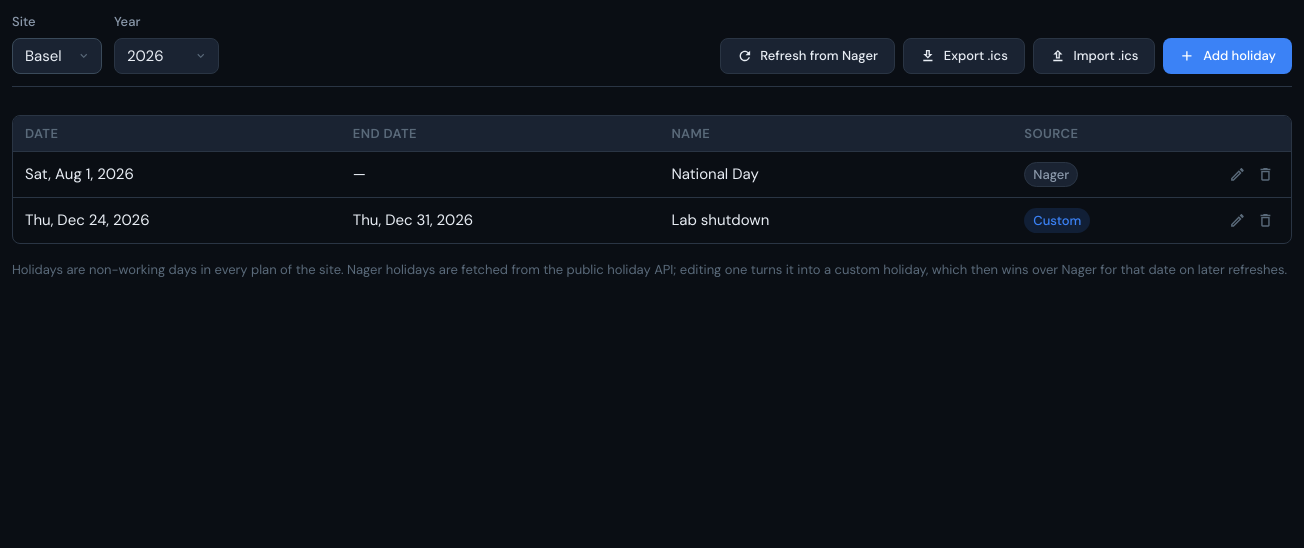
Test: BankHolidaysPanel add and edit › shows a save error and can be cancelled
This screenshot has width=1304, height=548.
Check: the text "National Day" is shown, box [659,152,1012,197]
What coordinates should you click on to do the following:
click the button named "Edit Lab shutdown"
I would click on:
 (1237, 220)
Its box is [1223,206,1251,234].
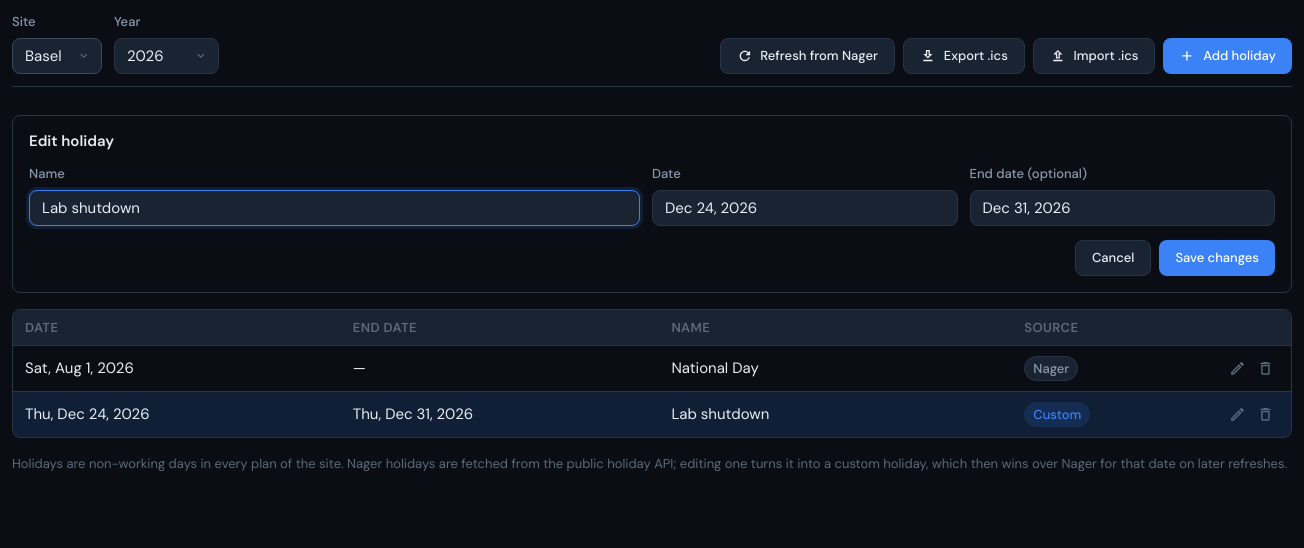
What coordinates should you click on to do the following:
click the button "Save changes"
I would click on:
 (1217, 258)
Its box is [1159,240,1275,276].
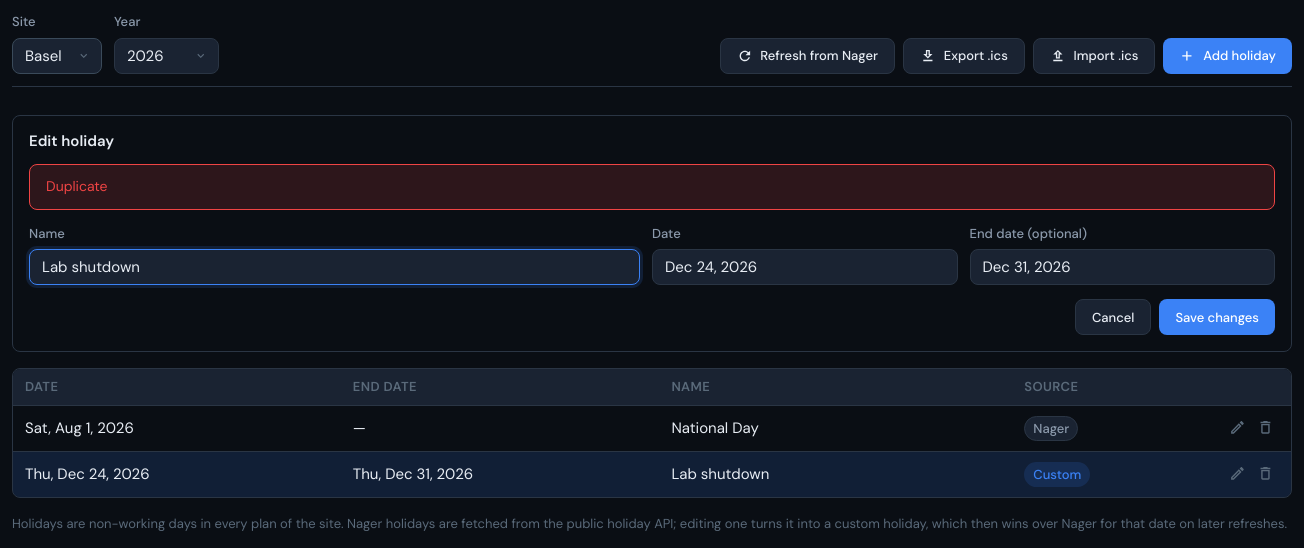
Check: the text "Duplicate" is shown, box [46,177,108,195]
What coordinates should you click on to do the following:
click the button "Cancel"
I would click on:
 (1113, 317)
Its box is [1075,299,1151,335].
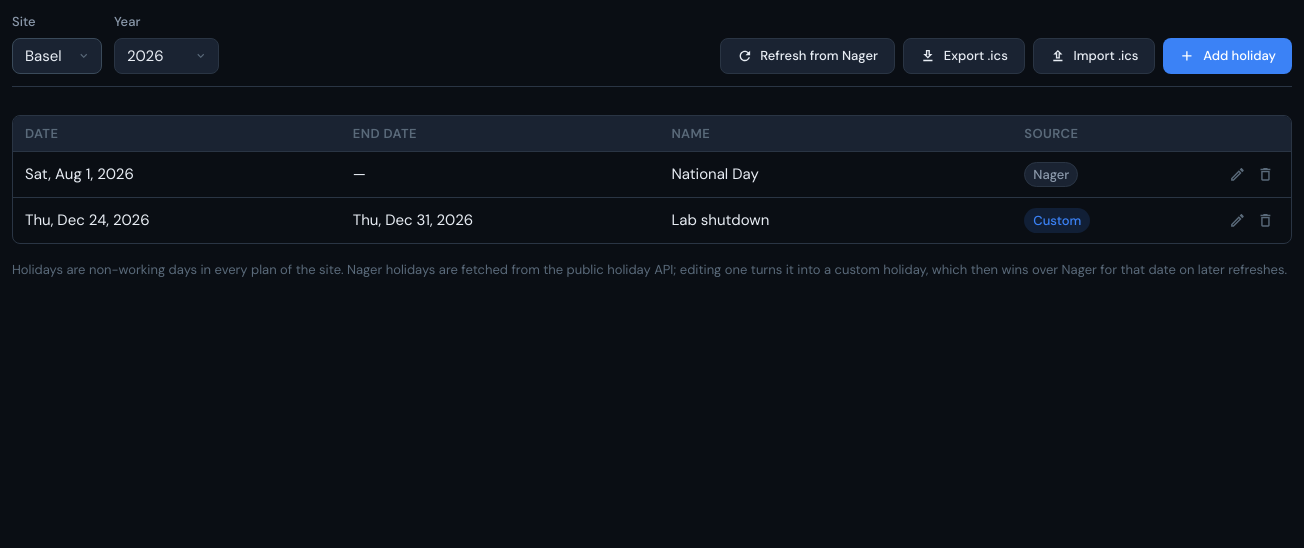
Check: the heading "Edit holiday" is gone
